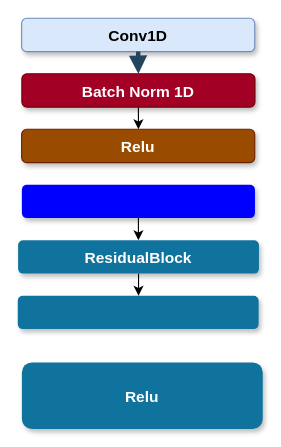
Image size: 281x447. Some labels were removed from this diagram. The centre of each missing label's shape, as x and y in pixels:
avg pooling: point 139,313
MaxPooling: point 139,202
